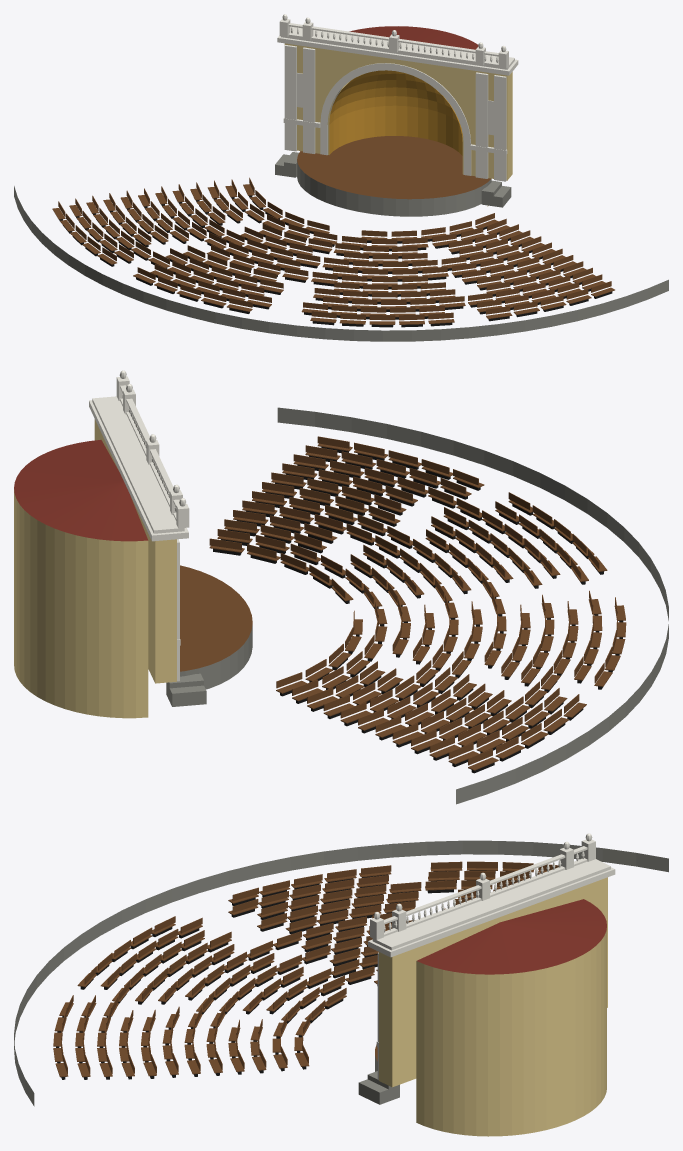
File: rakushka.glb
The picture shows the model from 3 angles, top to bottom: view 1: azimuth 30°, elevation 25°; view 2: azimuth 150°, elevation 25°; view 3: azimuth 270°, elevation 25°; orthographic projection. The views are drawn at different scales.
Parts seen in each view (by area): view 1: rakushka_wood, rakushka_trim, rakushka_stone, rakushka_wall2, rakushka_wall, rakushka_metal, rakushka_roof, rakushka_trim_s; view 2: rakushka_wood, rakushka_wall, rakushka_stone, rakushka_roof, rakushka_metal, rakushka_trim; view 3: rakushka_wall, rakushka_wood, rakushka_stone, rakushka_trim, rakushka_roof, rakushka_metal, rakushka_trim_s.
Part boxes in pixels (left/top/right/bottom): rakushka_wood: left=52, top=136, right=614, bottom=324; rakushka_trim: left=277, top=18, right=518, bottom=181; rakushka_stone: left=14, top=152, right=668, bottom=341; rakushka_wall2: left=329, top=70, right=462, bottom=155; rakushka_wall: left=284, top=43, right=512, bottom=206; rakushka_metal: left=59, top=195, right=612, bottom=327; rakushka_roof: left=349, top=26, right=478, bottom=49; rakushka_trim_s: left=282, top=14, right=506, bottom=62; rakushka_wood: left=180, top=436, right=626, bottom=770; rakushka_wall: left=14, top=419, right=176, bottom=718; rakushka_stone: left=166, top=407, right=668, bottom=804; rakushka_roof: left=14, top=440, right=148, bottom=541; rakushka_metal: left=213, top=447, right=623, bottom=773; rakushka_trim: left=89, top=376, right=189, bottom=681; rakushka_wall: left=379, top=877, right=607, bottom=1136; rakushka_wood: left=53, top=861, right=558, bottom=1077; rakushka_stone: left=14, top=840, right=668, bottom=1106; rakushka_trim: left=368, top=839, right=615, bottom=1080; rakushka_roof: left=417, top=899, right=606, bottom=974; rakushka_metal: left=56, top=870, right=528, bottom=1079; rakushka_trim_s: left=373, top=833, right=592, bottom=932.
Bounding box in the file's own units: 35.42 × 13.81 × 38.86.
